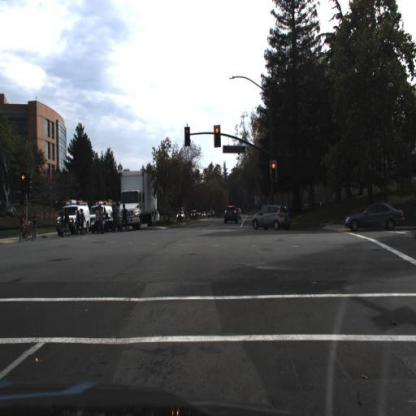biker: (18, 208, 33, 244)
car: (118, 170, 158, 232), (345, 199, 405, 233), (250, 202, 295, 237), (55, 204, 92, 235), (90, 203, 116, 228), (90, 215, 115, 232), (222, 202, 239, 225)
pedestrian: (114, 199, 125, 230), (114, 202, 124, 236), (73, 203, 81, 236), (64, 202, 72, 234), (89, 201, 97, 233), (80, 205, 89, 233), (122, 202, 130, 233), (31, 207, 38, 242), (100, 203, 108, 232), (63, 206, 70, 237), (111, 204, 119, 230), (123, 204, 128, 232)
trafficLight-Red: (213, 122, 222, 150), (271, 158, 279, 184)
trafficLight-RedLeft: (18, 170, 29, 195), (184, 123, 193, 146), (21, 172, 28, 192)
truck: (118, 171, 159, 216)
